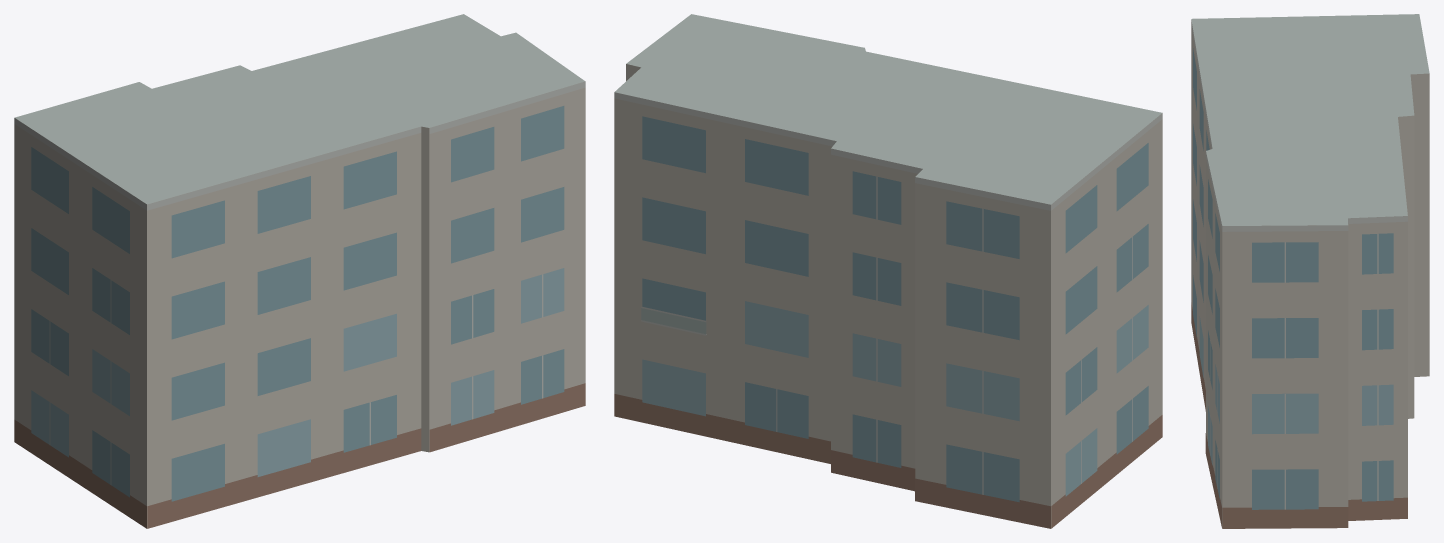
File: survey-upis-32972883.glb
The picture shows the model from 3 angles, left to right: view 1: azimuth 30°, elevation 25°; view 2: azimuth 150°, elevation 25°; view 3: azimuth 270°, elevation 25°; orthographic projection. The views are drawn at different scales.
Visible parts, largest first — view 1: survey-upis-32972883.tmp; view 2: survey-upis-32972883.tmp; view 3: survey-upis-32972883.tmp.
Boxes of the visible parts, bbox=[...] form: survey-upis-32972883.tmp: bbox=[14, 14, 585, 528]; survey-upis-32972883.tmp: bbox=[614, 14, 1162, 528]; survey-upis-32972883.tmp: bbox=[1191, 14, 1429, 528].
Size of the model in its own units: 19.23 by 12.8 by 9.14.
